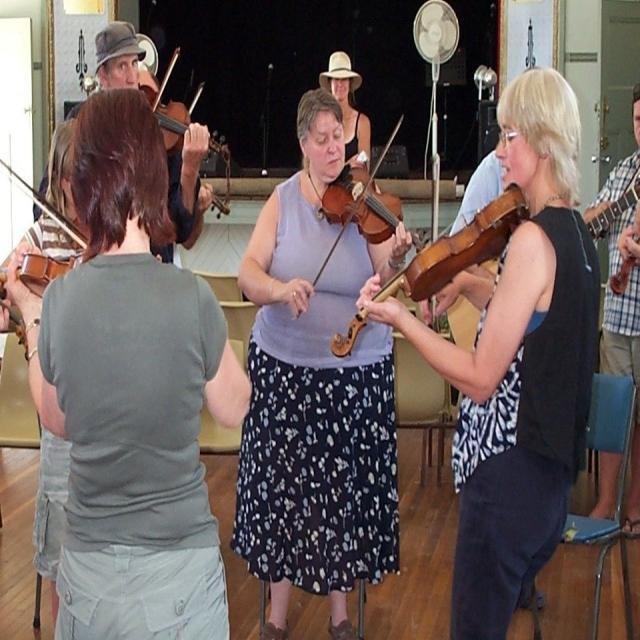violin: (329, 186, 533, 359), (322, 167, 428, 253), (133, 80, 233, 166), (0, 252, 80, 288)
